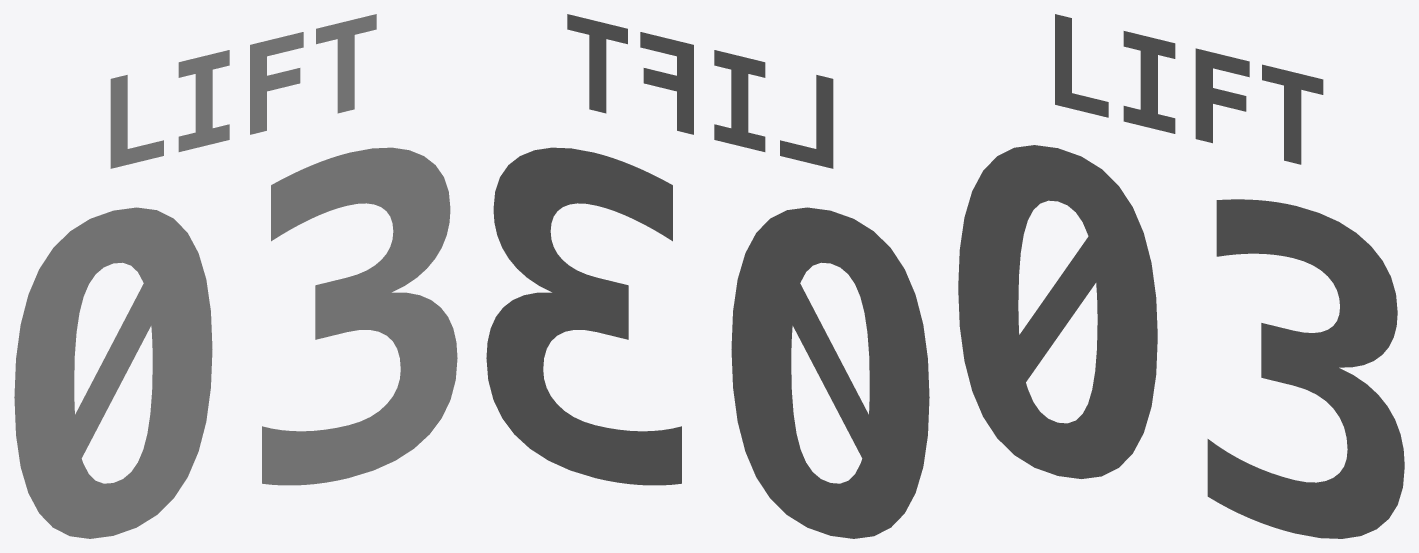
Rendered from Lift_03_Label_01.fbx.
3 renders of one model, left to right at view 1: azimuth 30°, elevation 25°; view 2: azimuth 150°, elevation 25°; view 3: azimuth 330°, elevation 25°, orthographic.
Parts seen in each view (by area): view 1: Lift_03_Label_01; view 2: Lift_03_Label_01; view 3: Lift_03_Label_01.
Part boxes in pixels (<box>): Lift_03_Label_01: <box>14,14,457,538</box>; Lift_03_Label_01: <box>486,14,929,538</box>; Lift_03_Label_01: <box>958,14,1404,538</box>.
Size of the model in its own units: 619 by 611 by 0.000122.
